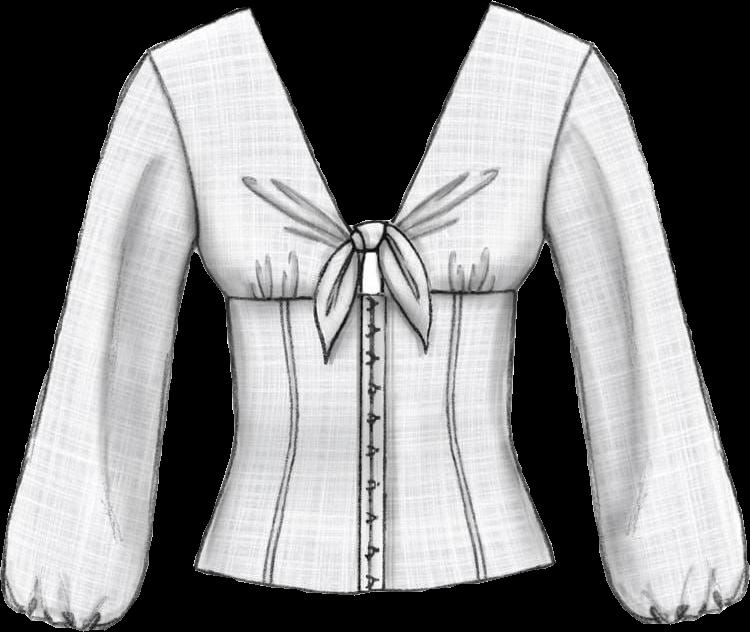Bodice: (150, 4, 597, 593)
Neckline: (246, 1, 496, 229), (221, 287, 517, 304)
Sleeve: (543, 45, 749, 623), (0, 48, 194, 631)
Sleeveline: (543, 41, 600, 244), (146, 47, 199, 251)
Waistline: (190, 558, 554, 595)
